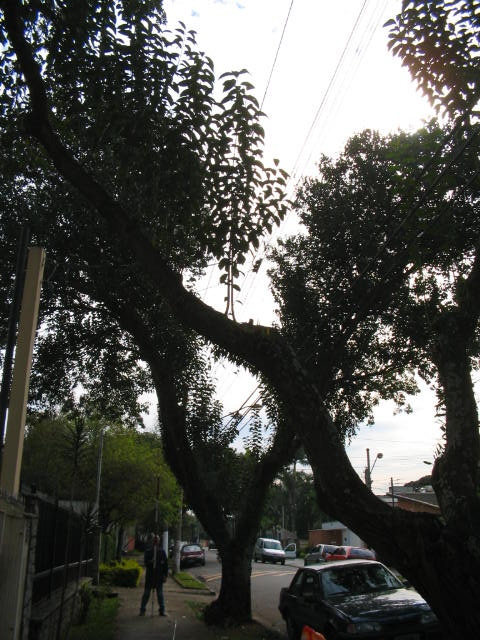crown: (6, 88, 476, 426)
stem: (201, 548, 264, 625)
stick: (146, 474, 163, 618)
tree: (2, 85, 480, 626)
